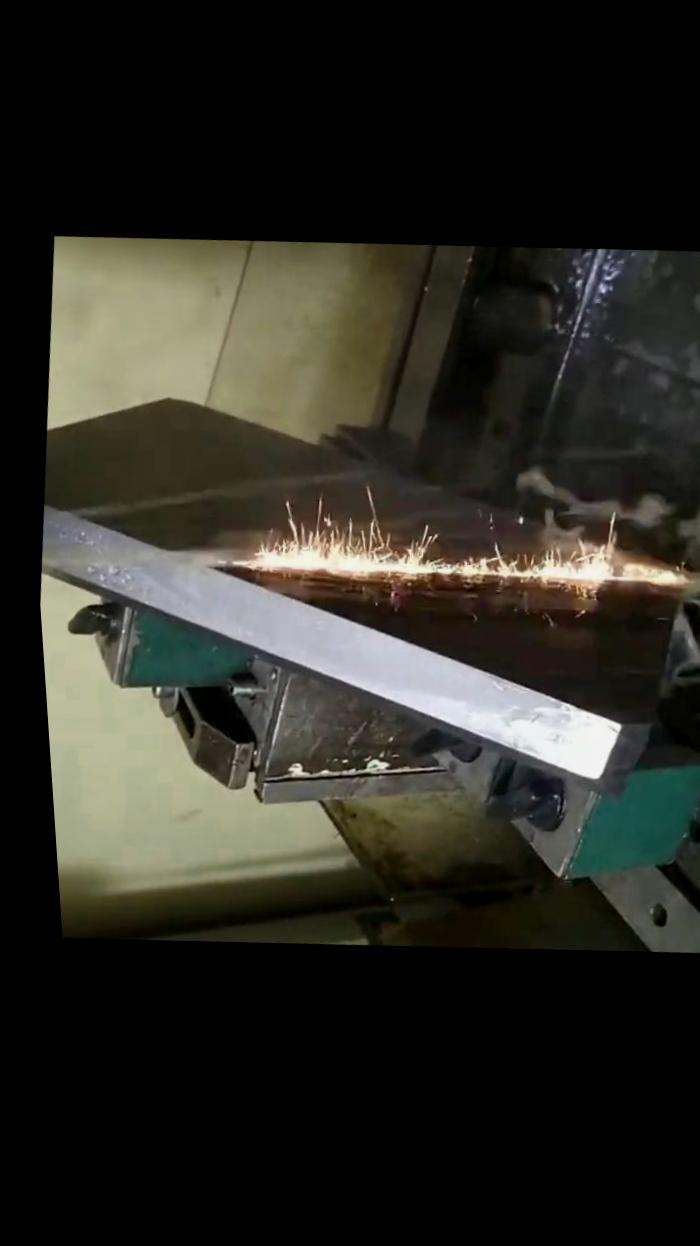fire: (76, 501, 700, 628)
